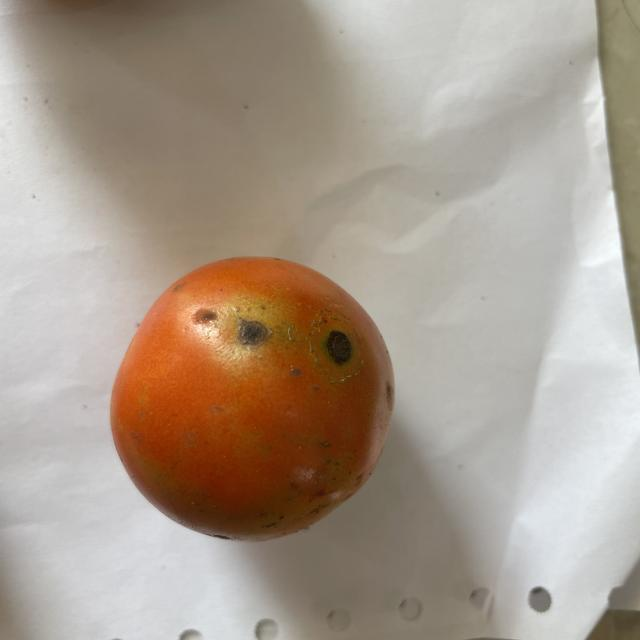fruitworm_bore: (194, 297, 274, 354), (318, 320, 362, 376)
